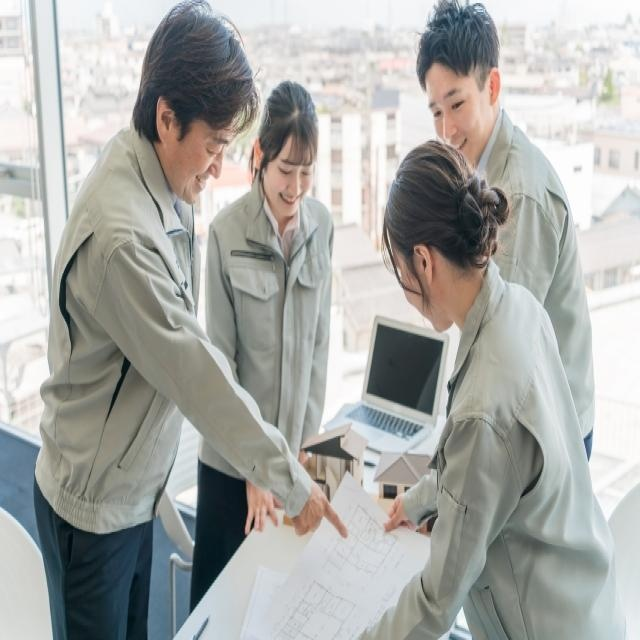Sin_Casco_Mascarrilla: (132, 0, 250, 200), (387, 141, 494, 335), (417, 0, 499, 151), (253, 79, 319, 214)
